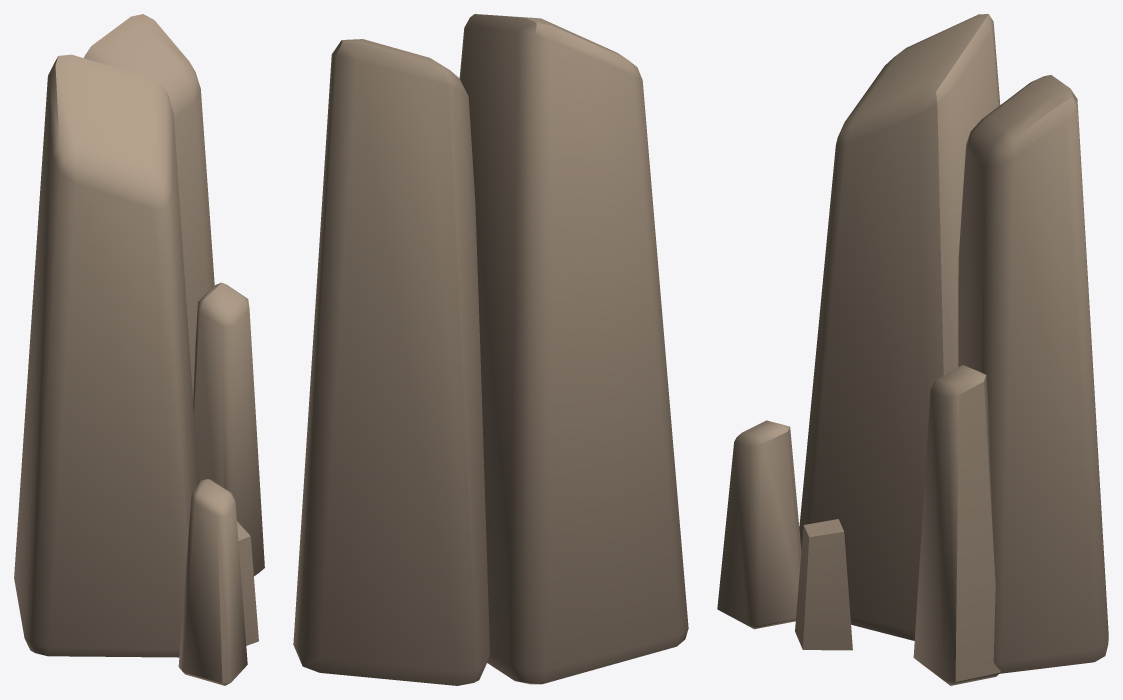
File: Rock_4_G_Color3.fbx
3 renders of one model, left to right at view 1: azimuth 30°, elevation 25°; view 2: azimuth 150°, elevation 25°; view 3: azimuth 270°, elevation 25°, orthographic. The views are drawn at different scales.
Visible parts, largest first — view 1: Rock_4_G_Color3; view 2: Rock_4_G_Color3; view 3: Rock_4_G_Color3.
Boxes of the visible parts, x1=… form: Rock_4_G_Color3: x1=14, y1=14, x2=264, y2=685; Rock_4_G_Color3: x1=293, y1=14, x2=688, y2=685; Rock_4_G_Color3: x1=717, y1=14, x2=1108, y2=685.
Size of the model in its own units: 1.74 by 3.41 by 2.09.
